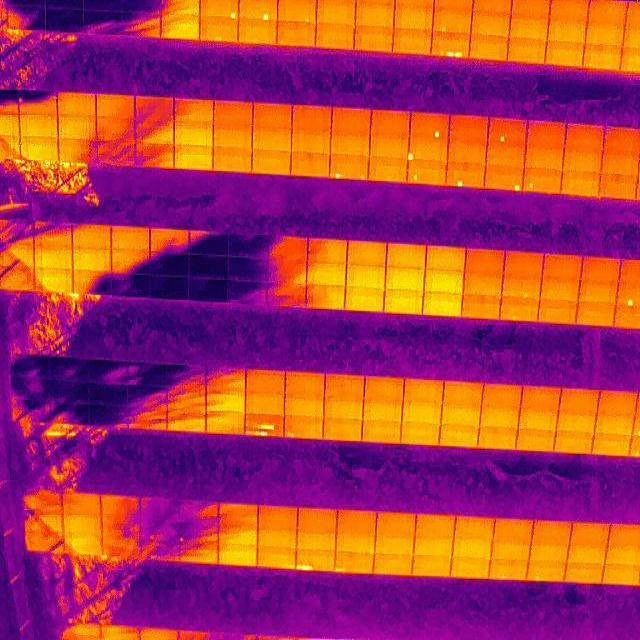Cell: (486, 119, 526, 148), (410, 111, 449, 139), (408, 138, 449, 162), (484, 168, 524, 192), (432, 8, 472, 32), (407, 161, 447, 184), (446, 164, 485, 186), (239, 0, 279, 21), (199, 19, 238, 40), (523, 172, 561, 192), (200, 0, 239, 19)
Cell-Multi: (433, 32, 472, 58), (329, 155, 368, 180), (244, 417, 285, 438)
No-Anomaly: (449, 112, 488, 148), (284, 371, 325, 401), (371, 110, 411, 140), (112, 225, 151, 254), (292, 106, 332, 134), (564, 124, 603, 152), (599, 390, 638, 418), (253, 104, 292, 132), (331, 107, 370, 135), (213, 104, 253, 131), (277, 22, 318, 48), (526, 121, 564, 149), (174, 145, 214, 171), (347, 240, 387, 266), (386, 242, 426, 268), (469, 36, 509, 62), (545, 42, 585, 68), (561, 171, 598, 199), (355, 2, 394, 28), (73, 224, 112, 250), (307, 260, 346, 286), (354, 26, 393, 52), (325, 374, 364, 400), (365, 375, 404, 401), (393, 29, 432, 55), (161, 15, 201, 40), (583, 45, 623, 70), (563, 148, 601, 174), (462, 292, 500, 318), (33, 248, 74, 272), (539, 278, 580, 302), (577, 278, 618, 302), (375, 514, 416, 538), (415, 514, 456, 538), (316, 23, 355, 48), (560, 390, 599, 415), (298, 505, 337, 530), (603, 128, 640, 154), (174, 124, 214, 148), (308, 238, 348, 262), (543, 254, 583, 278), (384, 291, 424, 315), (424, 292, 464, 316), (403, 378, 443, 402), (218, 502, 258, 526), (495, 518, 535, 542), (277, 0, 317, 24), (316, 0, 356, 24), (346, 266, 387, 289), (525, 148, 564, 172), (394, 6, 433, 30), (471, 12, 510, 36), (504, 252, 543, 276), (501, 298, 540, 322), (587, 22, 626, 46), (246, 371, 285, 395), (362, 421, 401, 445), (96, 95, 135, 119), (482, 386, 522, 409), (454, 516, 494, 539), (426, 246, 464, 270), (508, 40, 546, 64), (291, 133, 332, 155), (443, 384, 484, 406), (336, 510, 377, 532), (581, 256, 620, 279), (307, 286, 346, 309), (599, 175, 636, 199), (252, 133, 292, 155), (485, 146, 525, 168), (251, 154, 291, 176), (291, 155, 331, 177), (368, 160, 408, 182), (72, 249, 112, 271), (424, 270, 464, 292), (547, 20, 587, 42), (238, 20, 278, 42), (577, 303, 617, 325), (402, 403, 442, 425), (258, 505, 298, 527), (297, 529, 337, 551), (257, 548, 297, 570), (510, 16, 548, 39), (502, 276, 540, 299), (464, 250, 505, 271), (19, 115, 58, 137), (369, 138, 408, 160), (20, 138, 59, 160), (463, 272, 502, 294), (284, 418, 323, 440), (401, 424, 440, 446), (63, 494, 102, 516), (570, 523, 609, 545), (57, 95, 96, 117), (345, 289, 385, 310), (479, 408, 521, 428), (595, 417, 635, 438), (322, 419, 362, 440), (554, 432, 594, 453), (63, 515, 103, 536), (528, 541, 570, 561), (374, 554, 414, 575), (587, 0, 627, 21), (58, 118, 96, 140), (175, 100, 213, 122), (538, 302, 579, 322), (362, 401, 403, 421), (452, 538, 493, 558), (412, 556, 453, 576), (565, 562, 606, 582), (386, 269, 425, 290), (521, 390, 560, 411), (206, 392, 245, 413), (447, 146, 487, 166), (245, 395, 285, 415), (323, 400, 363, 420), (517, 410, 557, 430), (533, 520, 573, 540), (258, 528, 298, 548), (567, 544, 607, 564), (451, 558, 491, 578), (601, 154, 639, 175), (213, 152, 252, 172), (284, 399, 323, 419), (478, 428, 517, 448), (218, 545, 257, 565), (489, 559, 528, 579), (215, 130, 252, 151), (330, 136, 370, 155), (166, 415, 206, 434), (440, 425, 478, 445), (516, 431, 556, 450), (593, 436, 631, 456), (101, 495, 141, 514), (63, 536, 103, 555), (527, 560, 565, 580), (550, 0, 588, 20), (374, 537, 416, 555), (336, 535, 375, 554), (491, 540, 530, 559), (205, 414, 242, 434), (441, 407, 481, 425), (218, 528, 257, 546), (413, 539, 454, 556), (556, 415, 595, 431), (512, 0, 550, 15)
Shadowing: (33, 220, 72, 249), (45, 5, 84, 33), (83, 9, 125, 35), (149, 228, 190, 254), (228, 256, 269, 282), (166, 364, 205, 391), (189, 230, 229, 256), (150, 252, 190, 278), (128, 384, 168, 410), (86, 385, 128, 409), (46, 401, 88, 425), (111, 250, 151, 275), (124, 12, 162, 38), (34, 268, 74, 292), (73, 272, 113, 296), (23, 491, 63, 515), (135, 121, 174, 145), (135, 144, 174, 168), (189, 256, 228, 280), (269, 284, 308, 308), (47, 356, 86, 380), (7, 5, 44, 30), (86, 363, 128, 385), (140, 518, 182, 540), (150, 276, 190, 299), (135, 98, 175, 121), (97, 142, 135, 166), (269, 236, 307, 260), (190, 280, 228, 304), (139, 540, 180, 562), (168, 391, 207, 414), (270, 260, 307, 284), (229, 234, 269, 256), (111, 274, 151, 296), (205, 370, 245, 392), (102, 536, 142, 558), (19, 91, 57, 114), (228, 284, 269, 305), (46, 380, 87, 401), (22, 515, 63, 536), (96, 119, 135, 141), (58, 140, 97, 162), (181, 501, 218, 524), (128, 363, 166, 385), (12, 376, 48, 399), (12, 400, 45, 425), (87, 408, 128, 428), (140, 498, 181, 518), (181, 524, 218, 546), (11, 353, 47, 375), (128, 411, 167, 431), (102, 515, 141, 535), (22, 536, 64, 554), (181, 546, 218, 565)
Unclassified: (335, 555, 374, 574), (295, 552, 335, 570)
